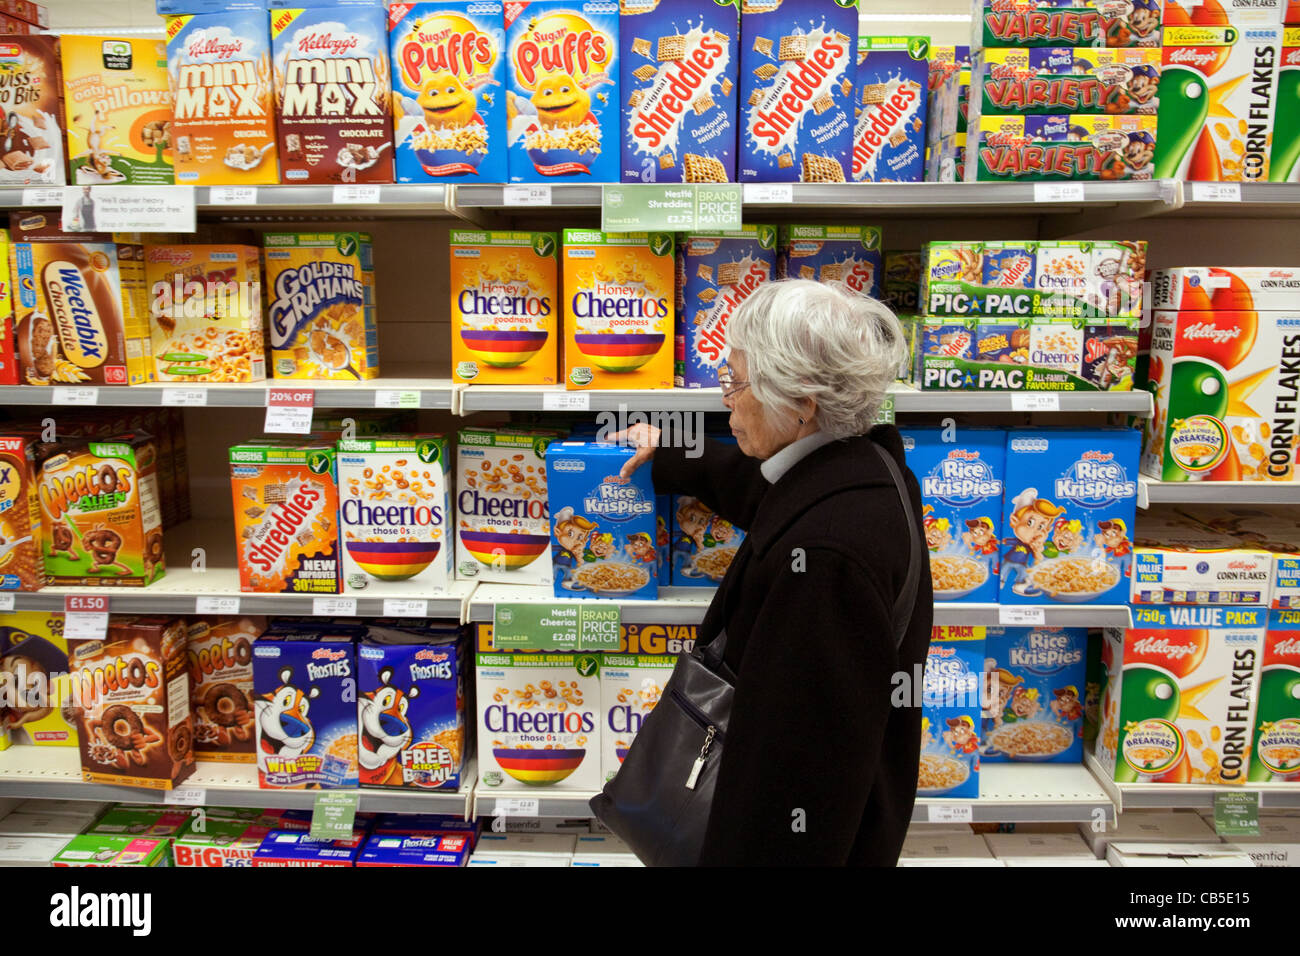Product 1: (313, 414, 575, 608)
Product 2: (431, 217, 693, 402)
Product 3: (386, 26, 621, 188)
